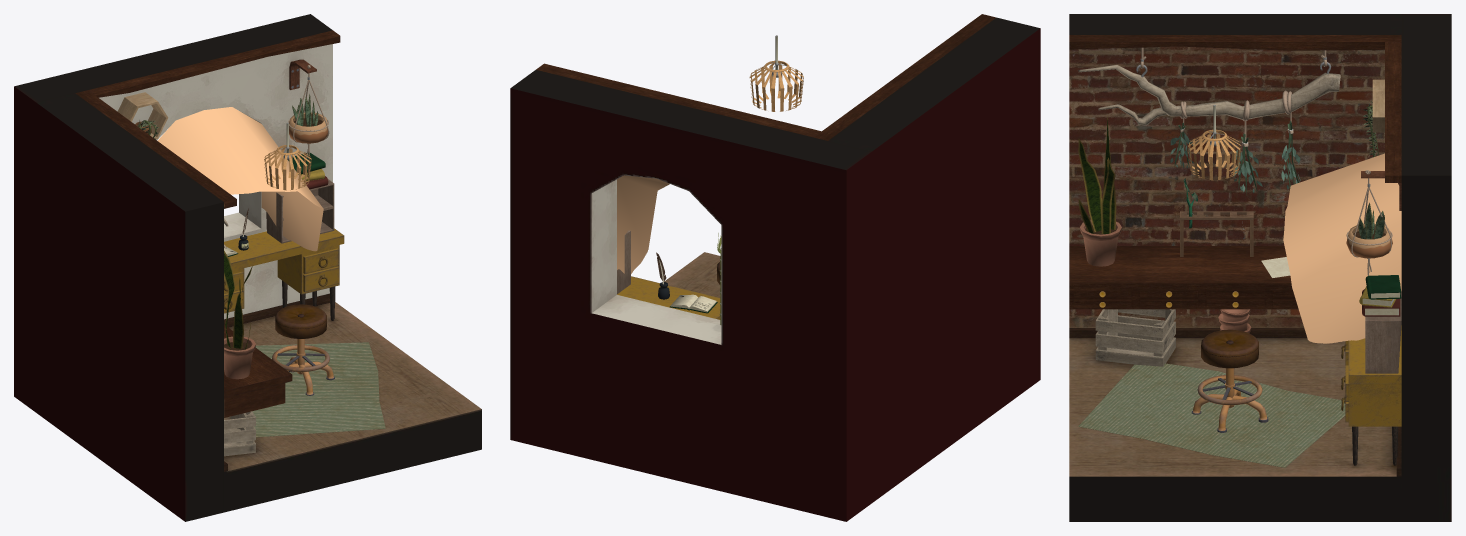
The model's file is the-botanists-study.fbx.
The picture shows the model from 3 angles, left to right: view 1: azimuth 30°, elevation 25°; view 2: azimuth 150°, elevation 25°; view 3: azimuth 270°, elevation 25°; orthographic projection. The views are drawn at different scales.
Visible parts, largest first — view 1: Room_M_Room_0, Room_M_Furniture_0, VolumetricLight.001_M_VolumetricLight_0, Room_M_Decorations_0; view 2: Room_M_Room_0, Room_M_Furniture_0, VolumetricLight.001_M_VolumetricLight_0, Room_M_Decorations_0; view 3: Room_M_Room_0, Room_M_Furniture_0, Room_M_Decorations_0, VolumetricLight.001_M_VolumetricLight_0, Room_M_Cutout_0.
Part boxes in pixels (box(x1,y1,x2,y2)): Room_M_Room_0: box(14, 14, 481, 521); Room_M_Furniture_0: box(75, 30, 385, 456); VolumetricLight.001_M_VolumetricLight_0: box(157, 107, 323, 251); Room_M_Decorations_0: box(117, 59, 329, 379); Room_M_Room_0: box(510, 17, 1040, 521); Room_M_Furniture_0: box(536, 14, 996, 319); VolumetricLight.001_M_VolumetricLight_0: box(617, 175, 669, 273); Room_M_Decorations_0: box(658, 35, 803, 324); Room_M_Room_0: box(1069, 14, 1451, 521); Room_M_Furniture_0: box(1069, 35, 1401, 467); Room_M_Decorations_0: box(1078, 47, 1401, 332); VolumetricLight.001_M_VolumetricLight_0: box(1283, 153, 1401, 343); Room_M_Cutout_0: box(1261, 257, 1290, 277).
Bounding box in the file's own units: 460 × 460 × 460.
